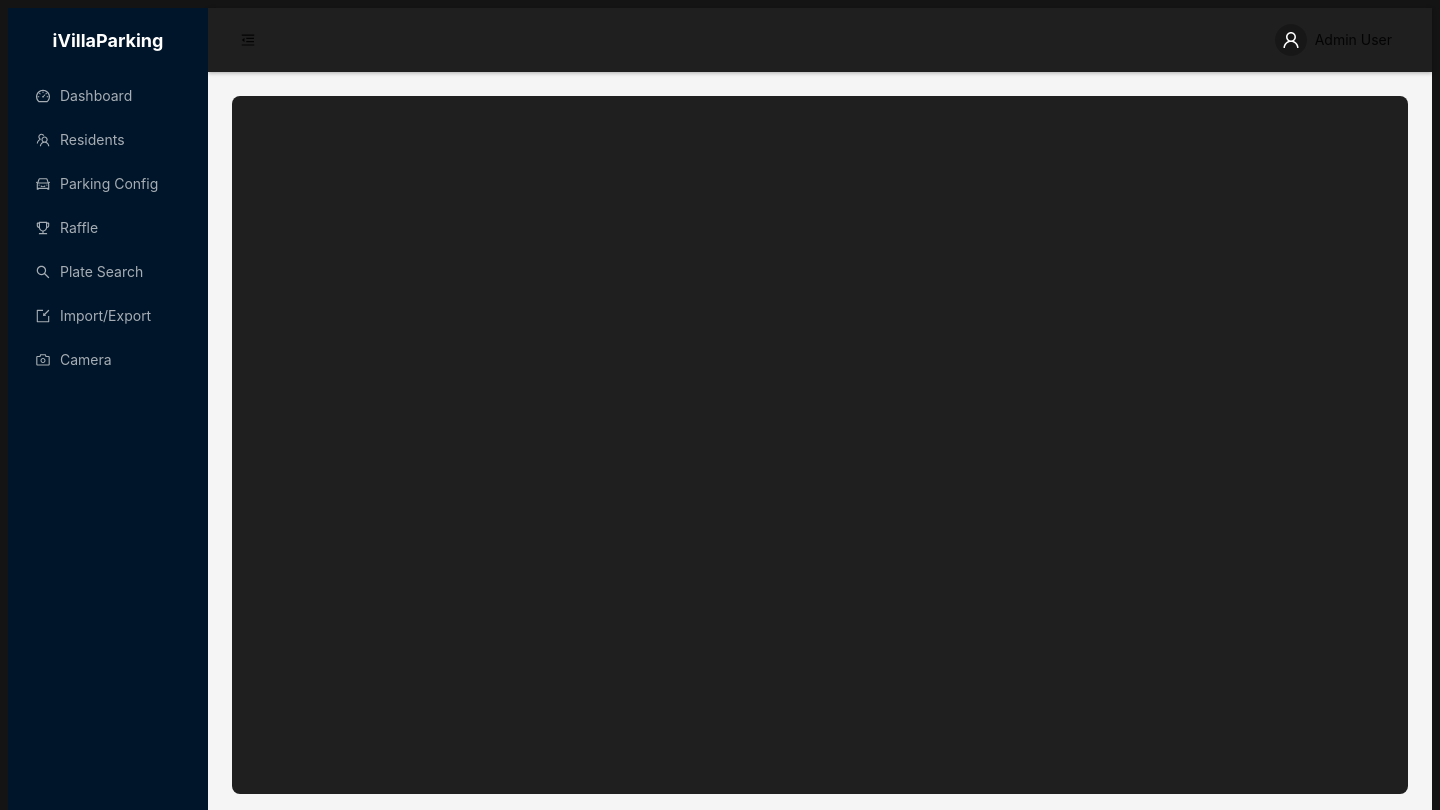
Scenario: AppLayout › should show the logout option in the user dropdown
The image size is (1440, 810).
Click the button "Admin User" at (1333, 40), box [1259,24,1408,56]
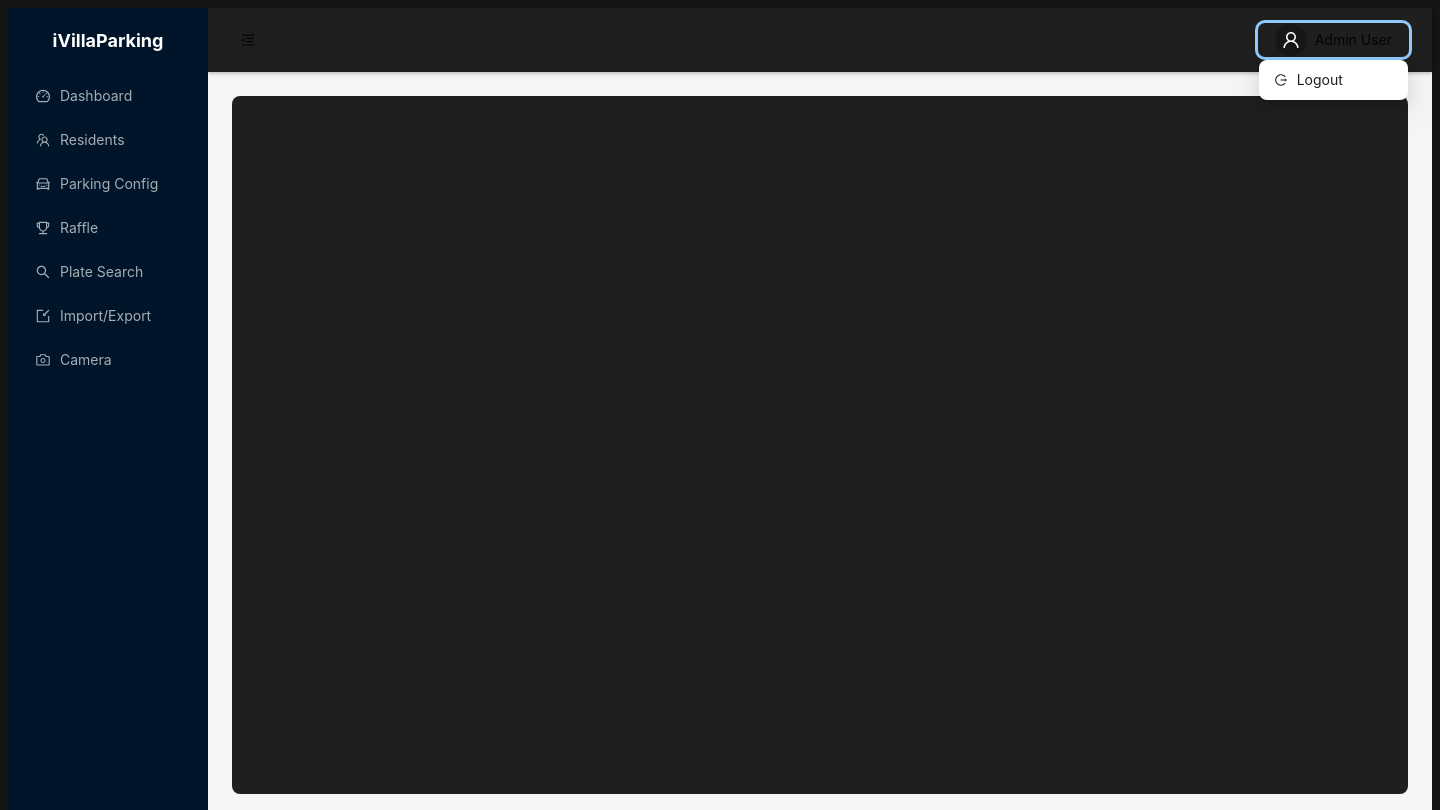
Result: the text "Logout" is shown at [1297,71,1343,88]
